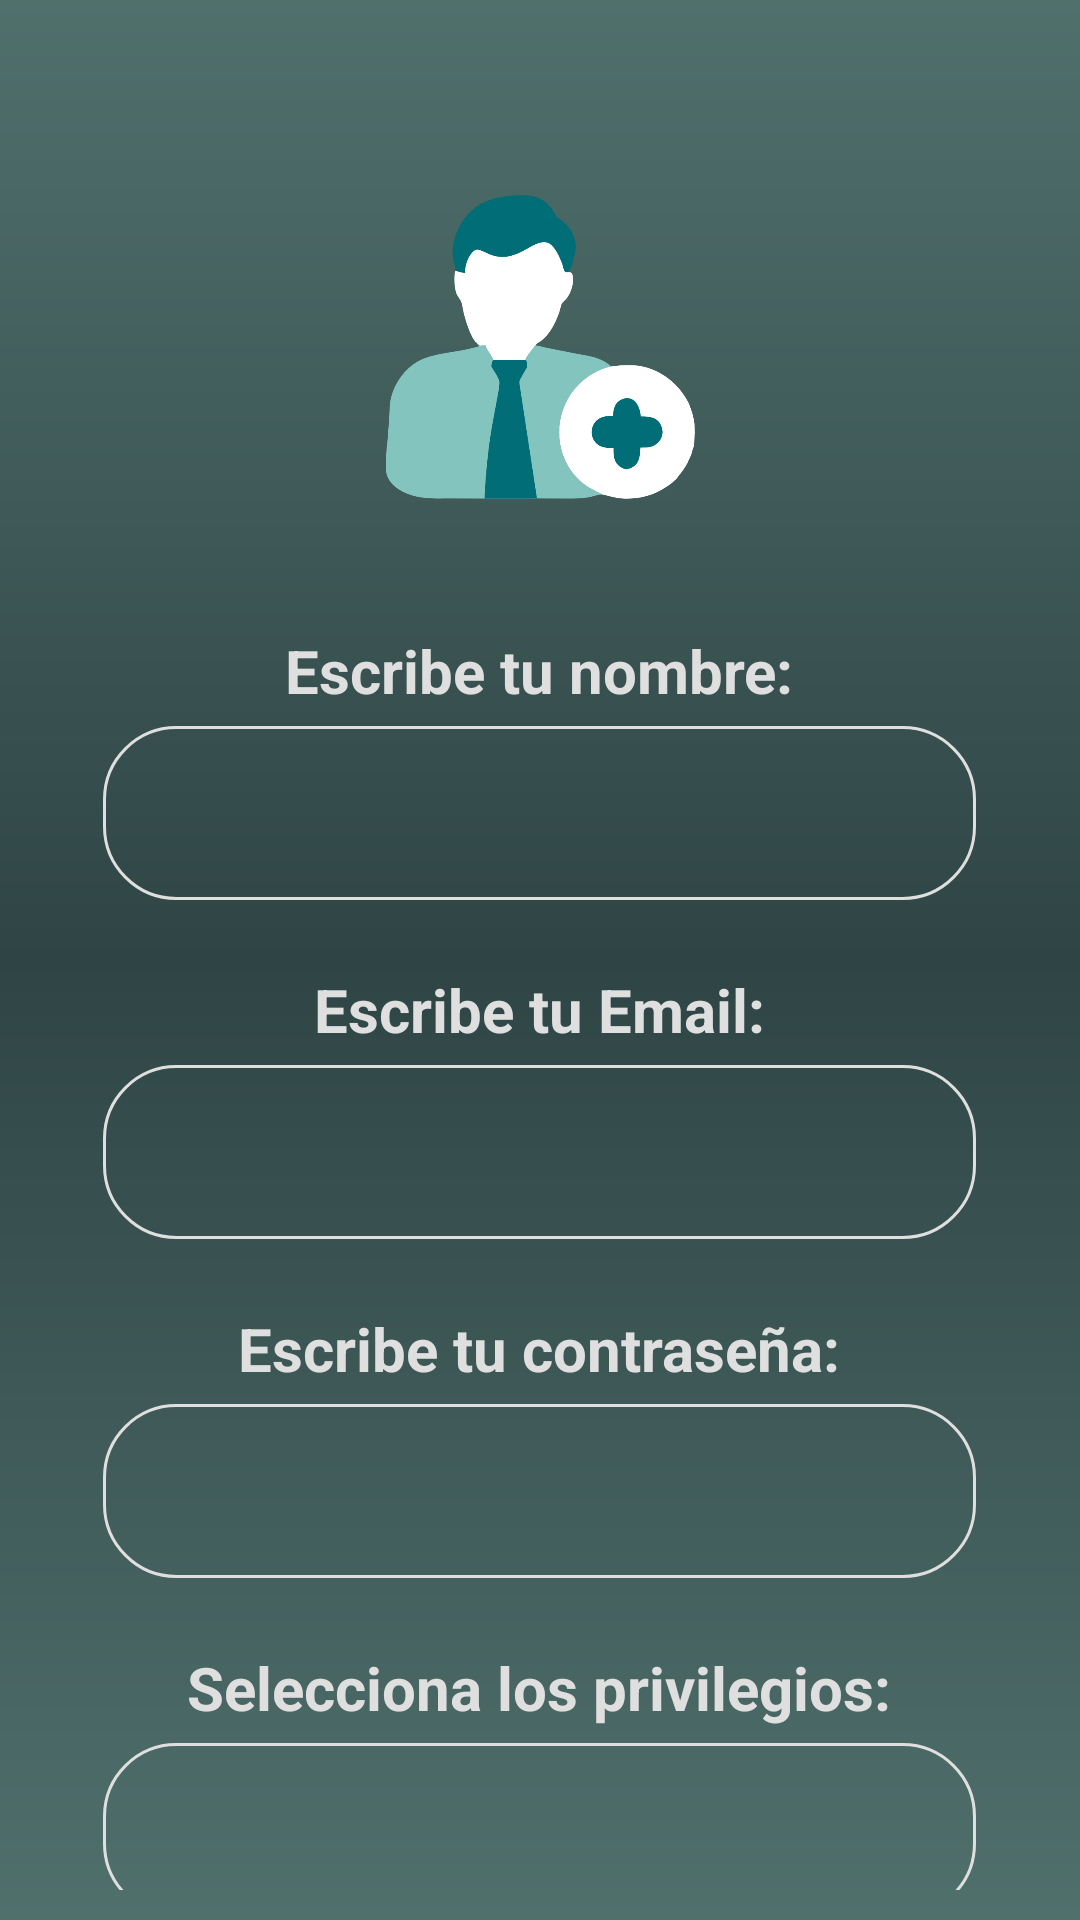

Icons on this 1080 x 1920 Android screen, each with its box as (x1, y1, x2, y2):
registro: (386, 195, 695, 499)
